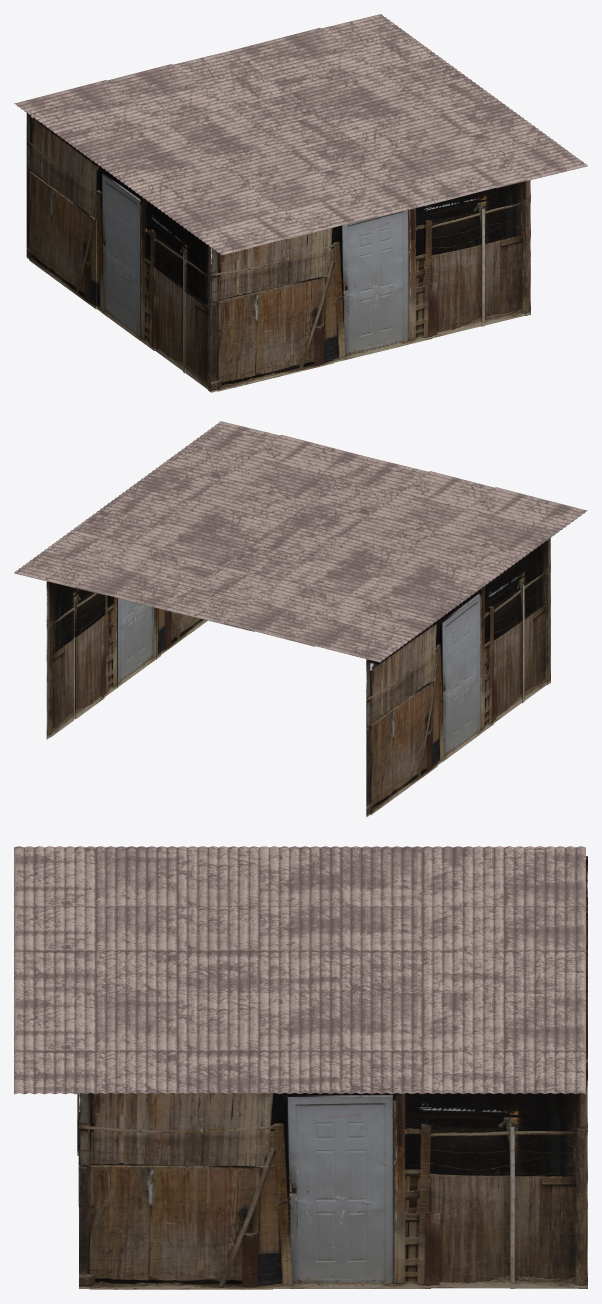
File: casa_derecha_16.fbx
The picture shows the model from 3 angles, top to bottom: view 1: azimuth 30°, elevation 25°; view 2: azimuth 150°, elevation 25°; view 3: azimuth 270°, elevation 25°; orthographic projection. The views are drawn at different scales.
Parts seen in each view (by area): view 1: Techo 16, casa_derecha_16.001, casa_derecha_16.002; view 2: Techo 16, casa_derecha_16.002, casa_derecha_16; view 3: Techo 16, casa_derecha_16.
Part boxes in pixels (x1,y1,x2,y2): Techo 16: (14, 14, 587, 255); casa_derecha_16.001: (211, 180, 530, 392); casa_derecha_16.002: (26, 112, 210, 392); Techo 16: (14, 421, 587, 662); casa_derecha_16.002: (366, 538, 550, 817); casa_derecha_16: (46, 581, 207, 739); Techo 16: (14, 846, 585, 1094); casa_derecha_16: (79, 1071, 587, 1289).
Bounding box in the file's own units: 926 × 386 × 911.
